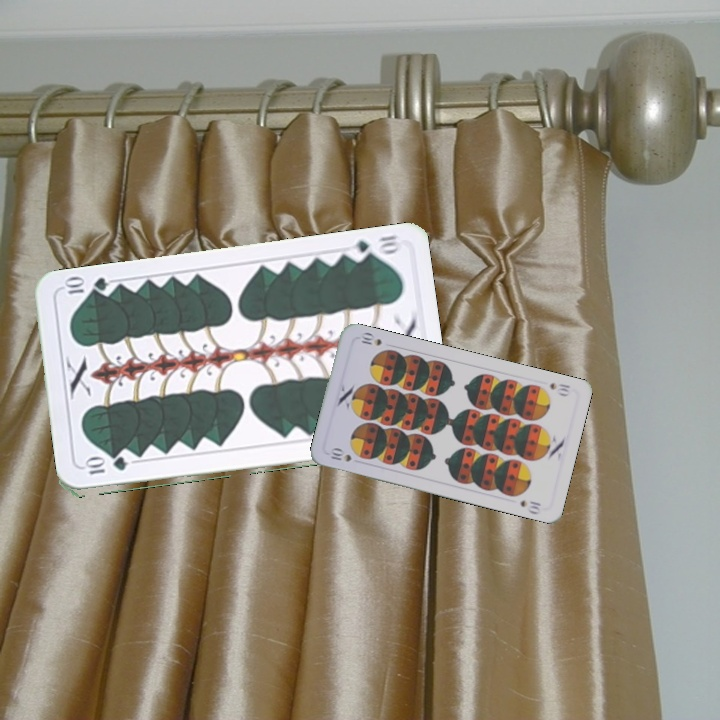G10: (343, 231, 400, 264), (80, 455, 130, 477)
S10: (545, 378, 573, 399), (327, 445, 354, 464)
